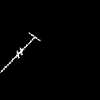treble_crochet: (1, 33, 38, 71)
